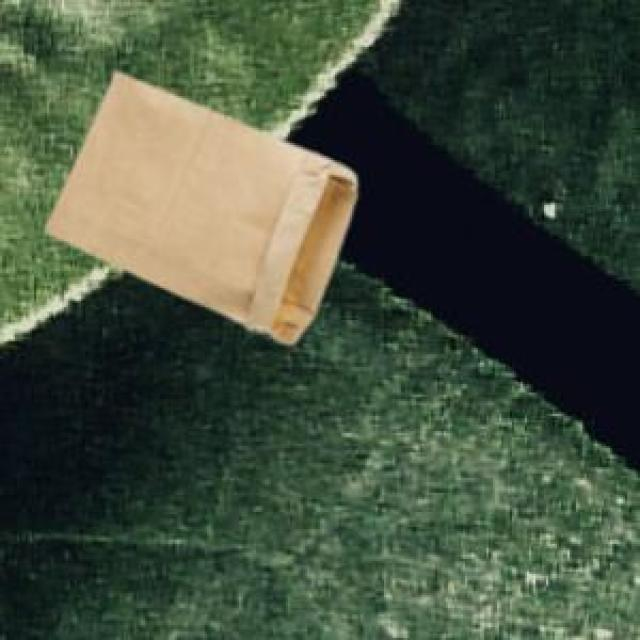paper: (43, 68, 352, 339)
